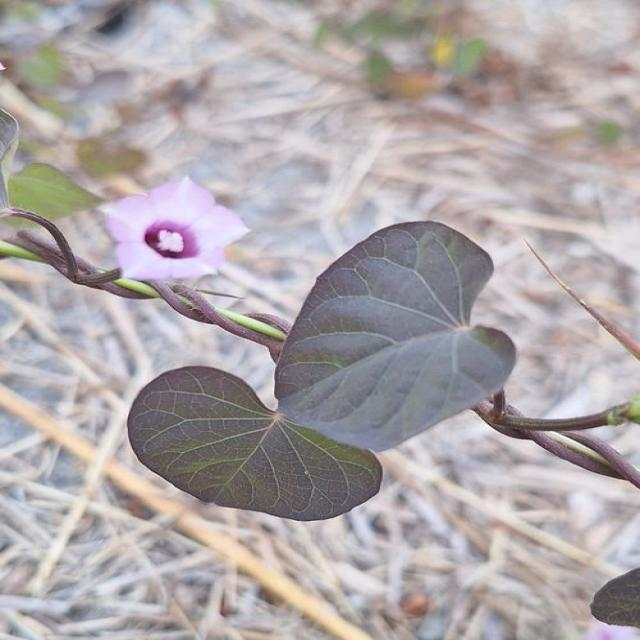ipomoea: (96, 175, 252, 286)
